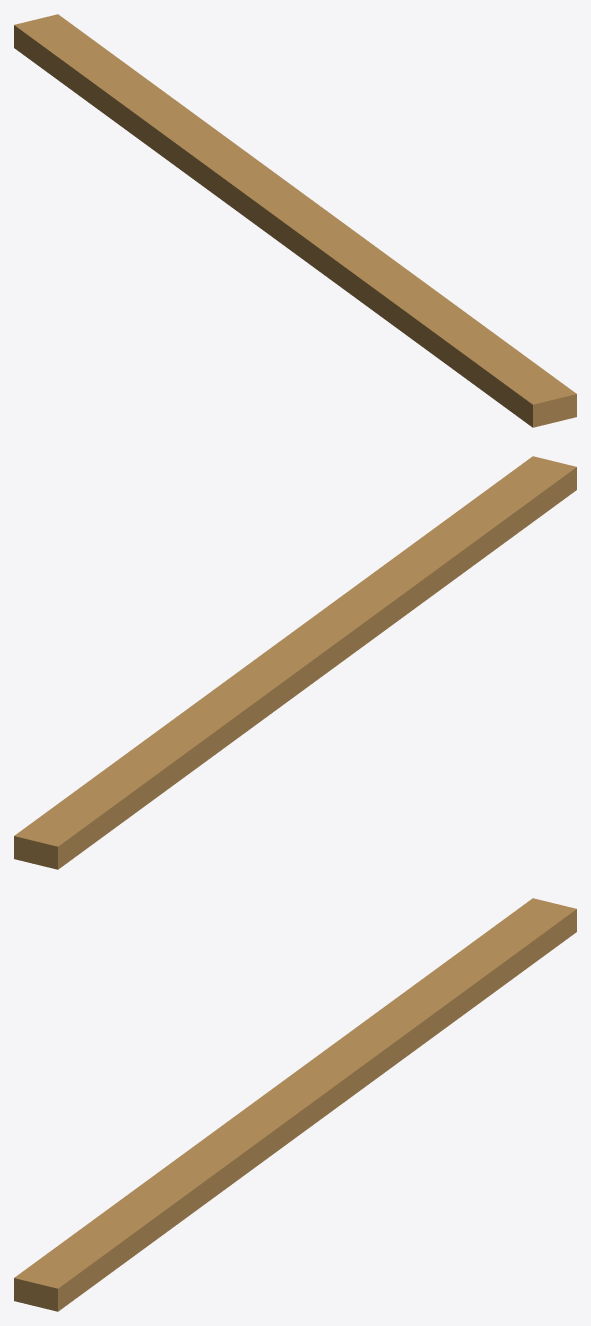
The picture shows the model from 3 angles, top to bottom: view 1: azimuth 30°, elevation 25°; view 2: azimuth 150°, elevation 25°; view 3: azimuth 330°, elevation 25°; orthographic projection.
Visible parts, largest first — view 1: RUN-022-S01-top_plate; view 2: RUN-022-S01-top_plate; view 3: RUN-022-S01-top_plate.
Boxes of the visible parts, box(x1,y1,x2,y2) form: RUN-022-S01-top_plate: box(14, 14, 576, 427); RUN-022-S01-top_plate: box(14, 456, 576, 869); RUN-022-S01-top_plate: box(14, 898, 576, 1311).
Size of the model in its own units: 0.09 by 0.045 by 1.84.
